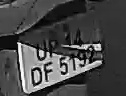1: (63, 32, 75, 51), (69, 52, 78, 72)
2: (86, 45, 99, 64)
4: (73, 28, 85, 48)
5: (57, 55, 69, 76)
9: (78, 47, 87, 68)
D: (29, 65, 44, 85)
F: (42, 60, 54, 81)
P: (48, 40, 58, 58)
U: (35, 41, 49, 61)
